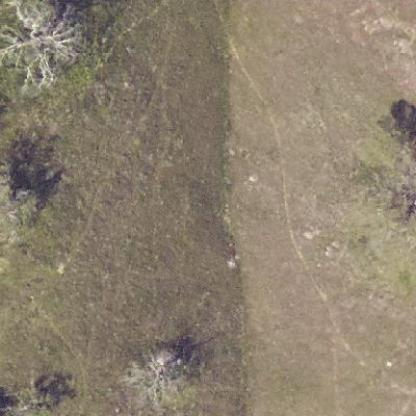tree-top: (0, 0, 90, 92), (119, 342, 200, 415)
